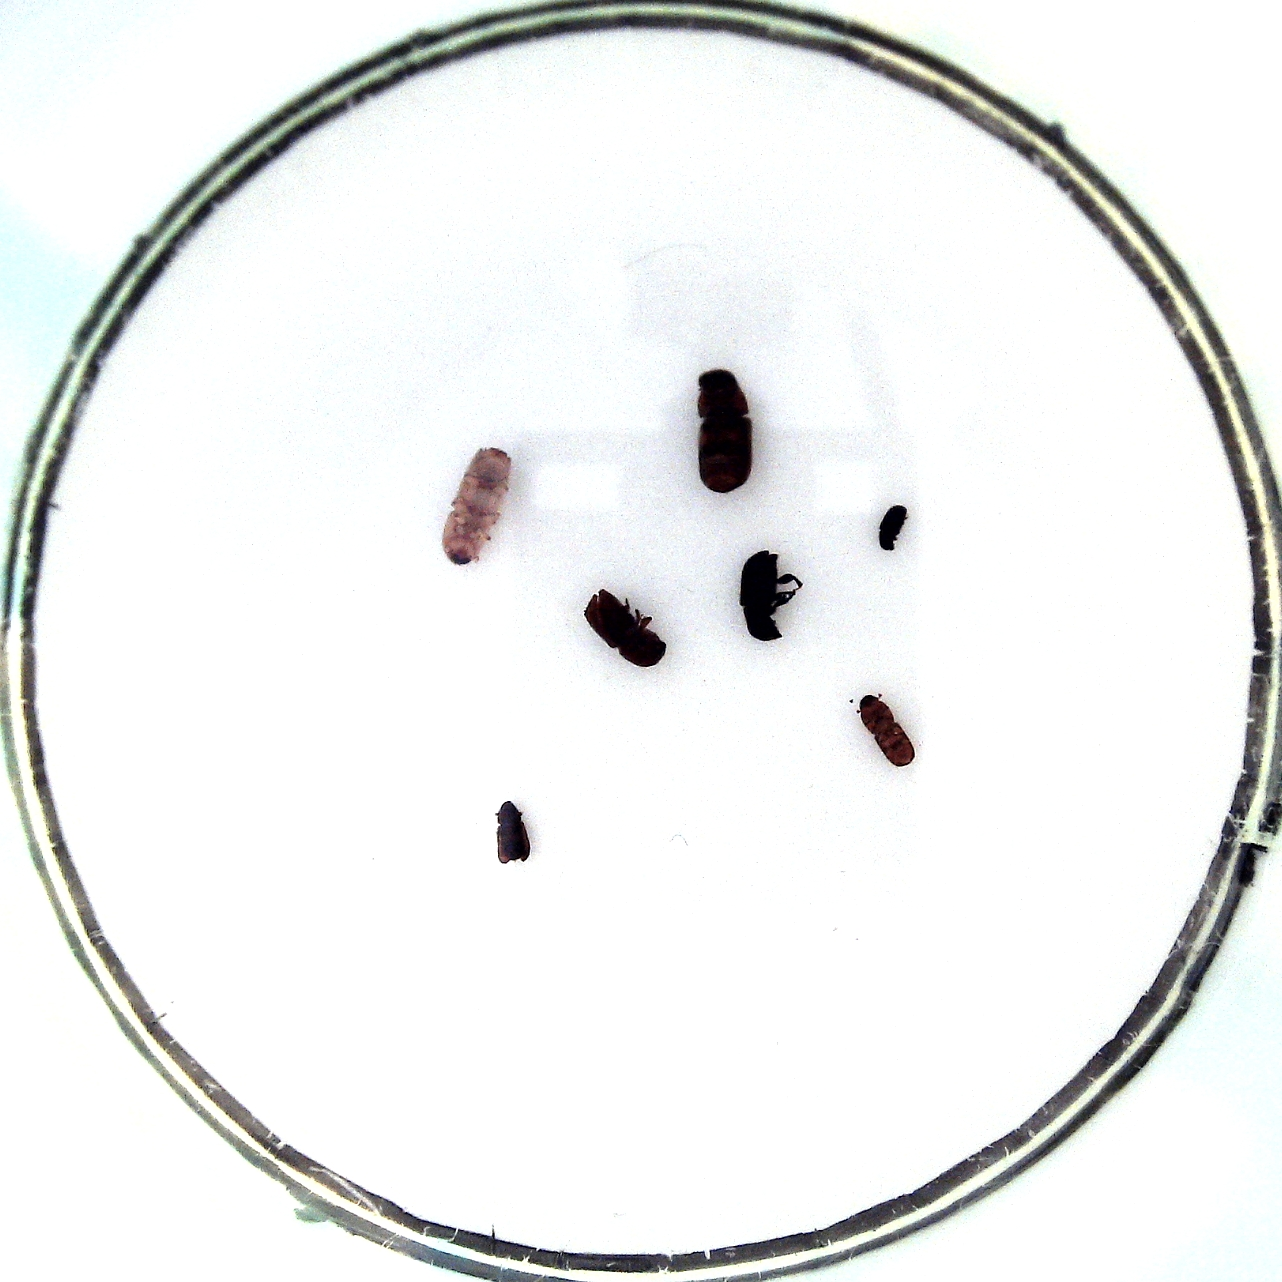Boerner: (441, 446, 511, 564)
Leconte: (697, 369, 753, 492)
acuminatus: (879, 504, 907, 551)
armandi: (738, 549, 781, 641)
coleoptera: (858, 694, 915, 765), (497, 801, 531, 862)
linnaeus: (583, 588, 669, 668)
